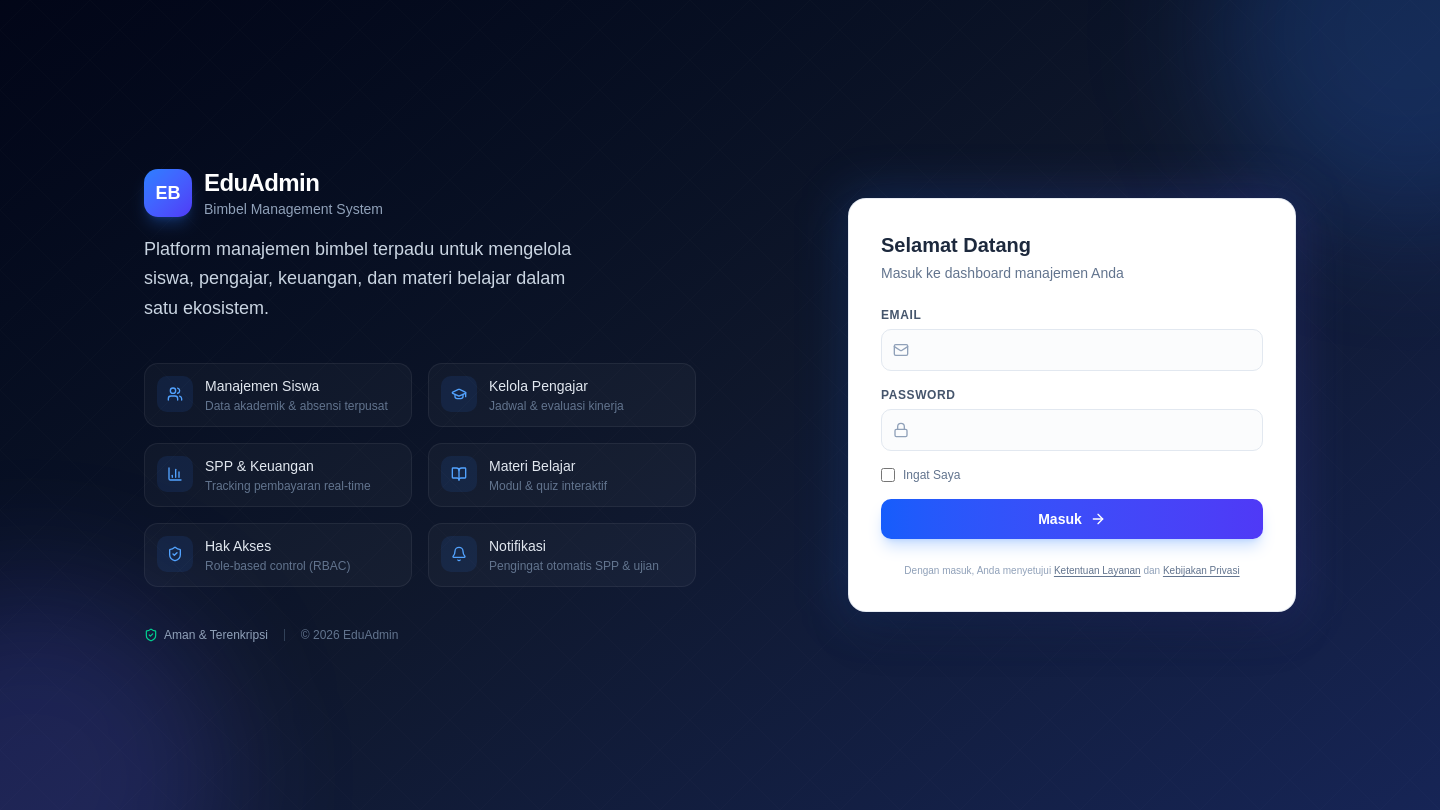
Scenario: LoginPage — Email/Password Form › shows error alert with custom error message
Type "x@y.com" into the field labelled "Email" at [1072, 350], box x1=881 y1=329 x2=1263 y2=371
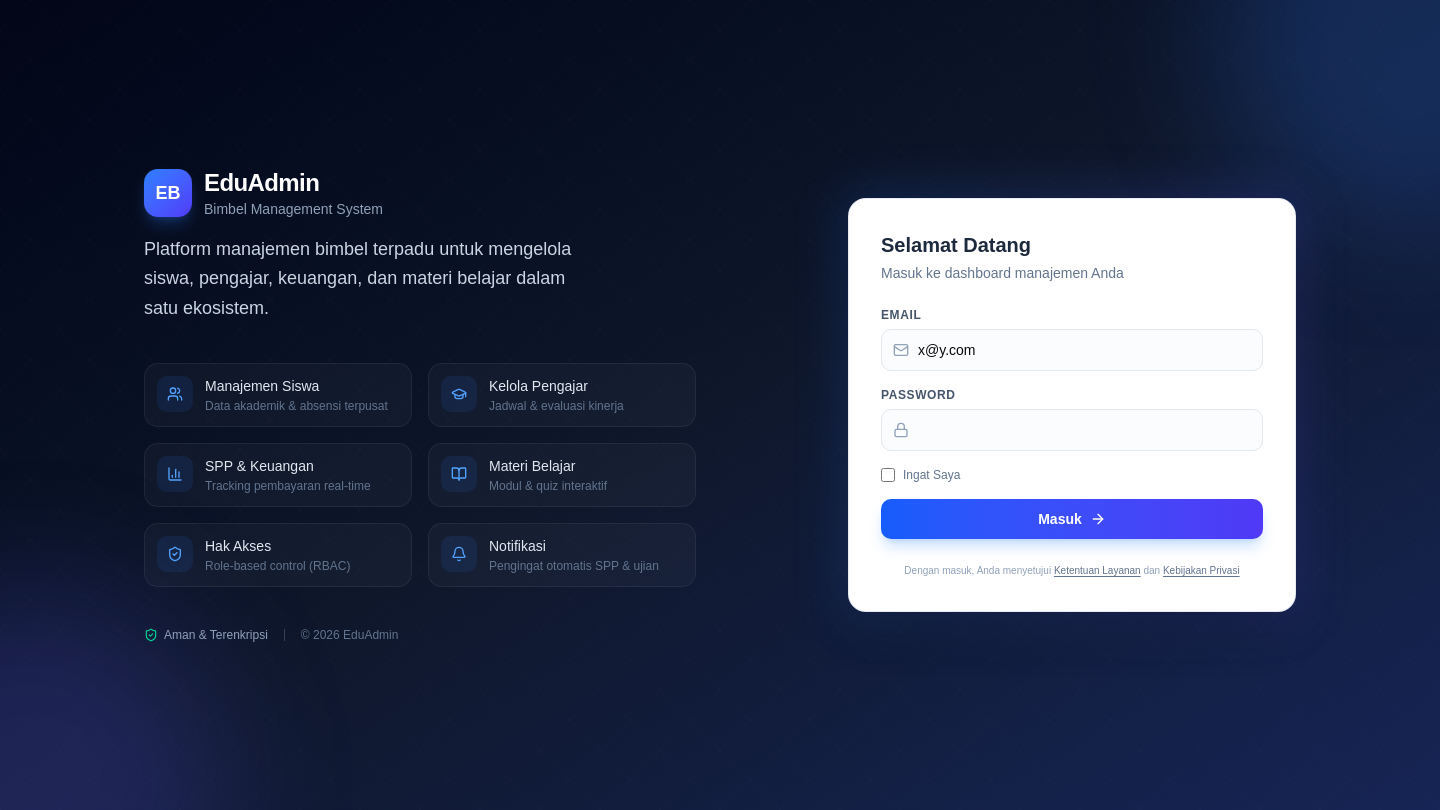
Type "wrong" into the password field labelled "Password" at [1072, 430], box x1=881 y1=409 x2=1263 y2=451
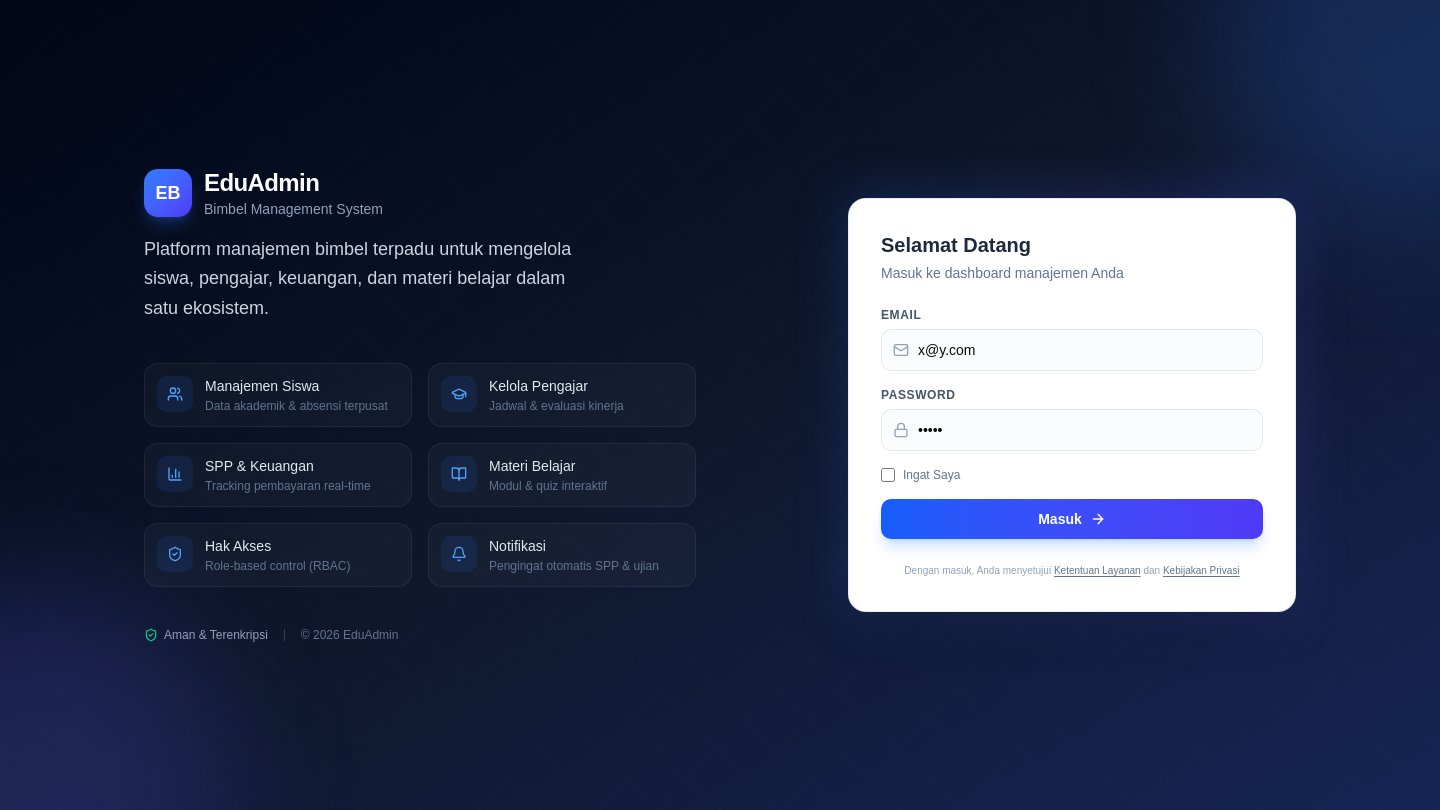
Click the button "Masuk" at [1072, 519], box x1=881 y1=499 x2=1263 y2=539
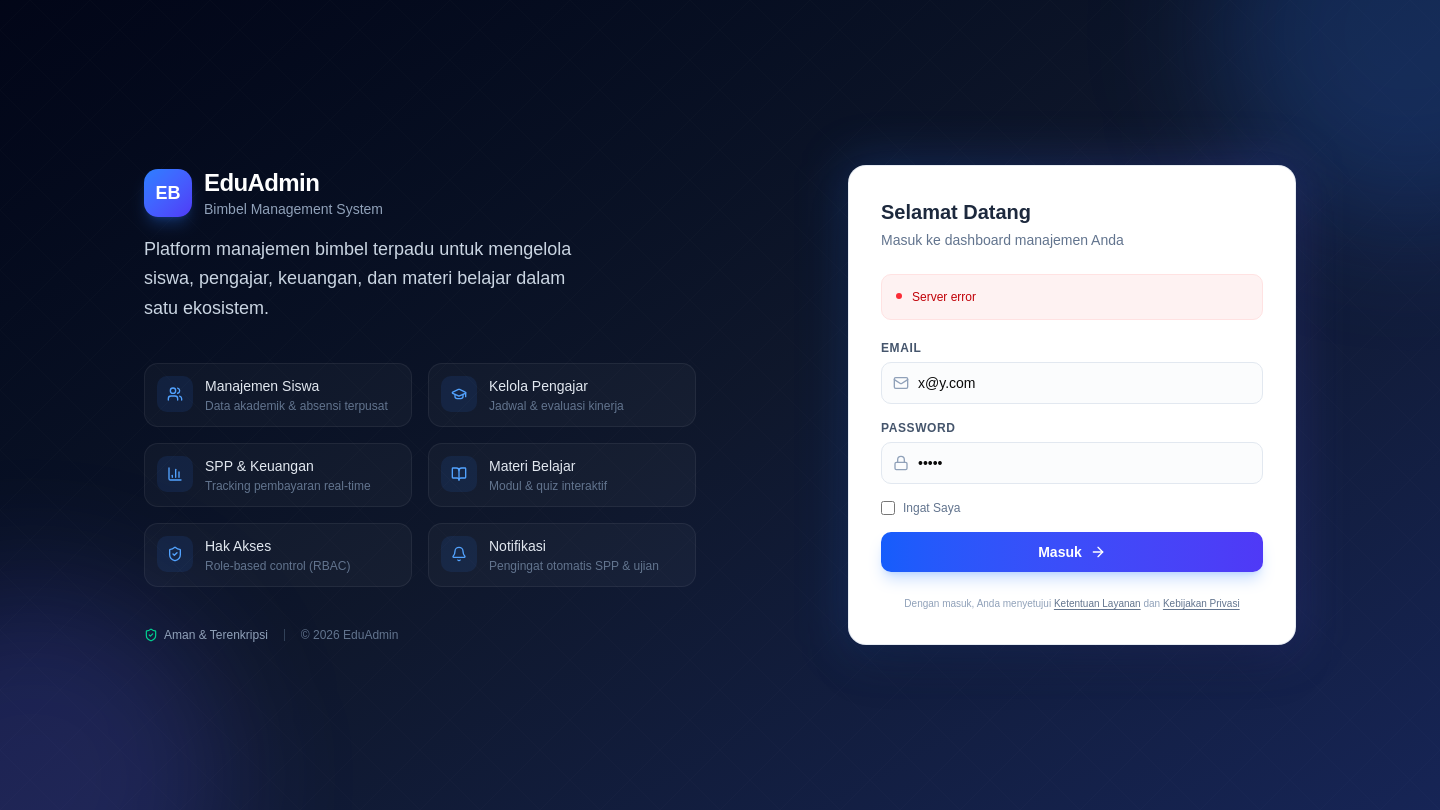
expect the message "Server error" is shown: met, box x1=881 y1=274 x2=1263 y2=320
expect the text "Server error" is shown: met, box x1=912 y1=289 x2=976 y2=305
